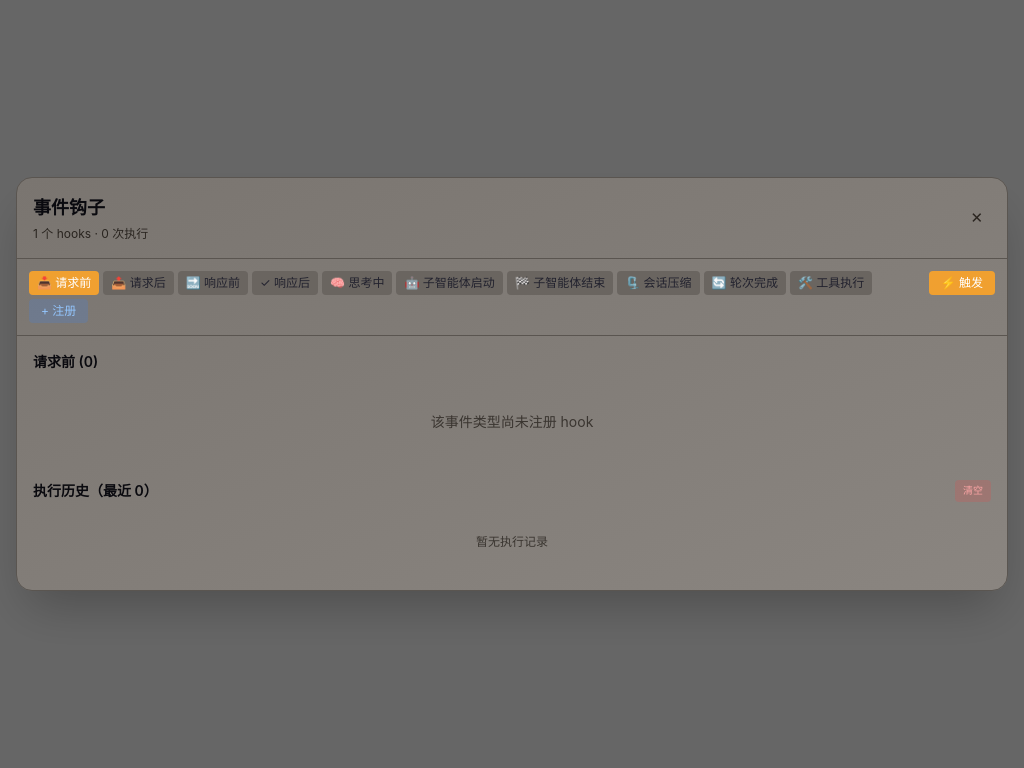
Test: HooksManagerPanel › 点击注册按钮显示表单
The width and height of the screenshot is (1024, 768).
What coordinates should you click on to do the following:
click the button with test id "hooks-manager-register"
I would click on:
 (59, 311)
Its box is top-left (29, 299), bottom-right (88, 323).
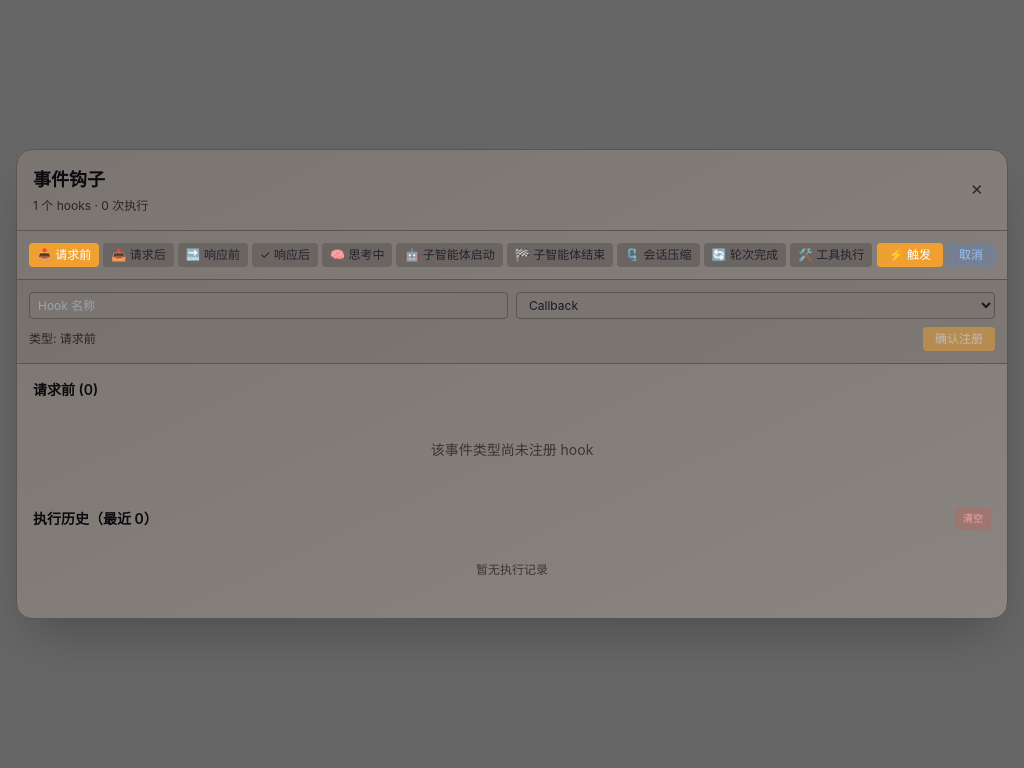
expect the field with test id "hooks-manager-form-name" is shown: met, box top-left (29, 292), bottom-right (508, 319)
